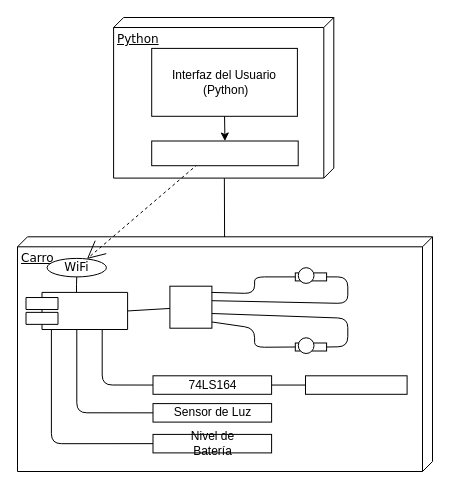
This 450x489 diagram has some shape labels left out. The shapes that lost their labels are listed below. From the top down, each one's centre as x and y in pixels, then its label:
At pixel 224 153: "Lógica del juego (arduino)".
At pixel 76 310: "NodeMCU (Servidor)".
At pixel 190 306: "L298N".
At pixel 355 384: "LEDs".
